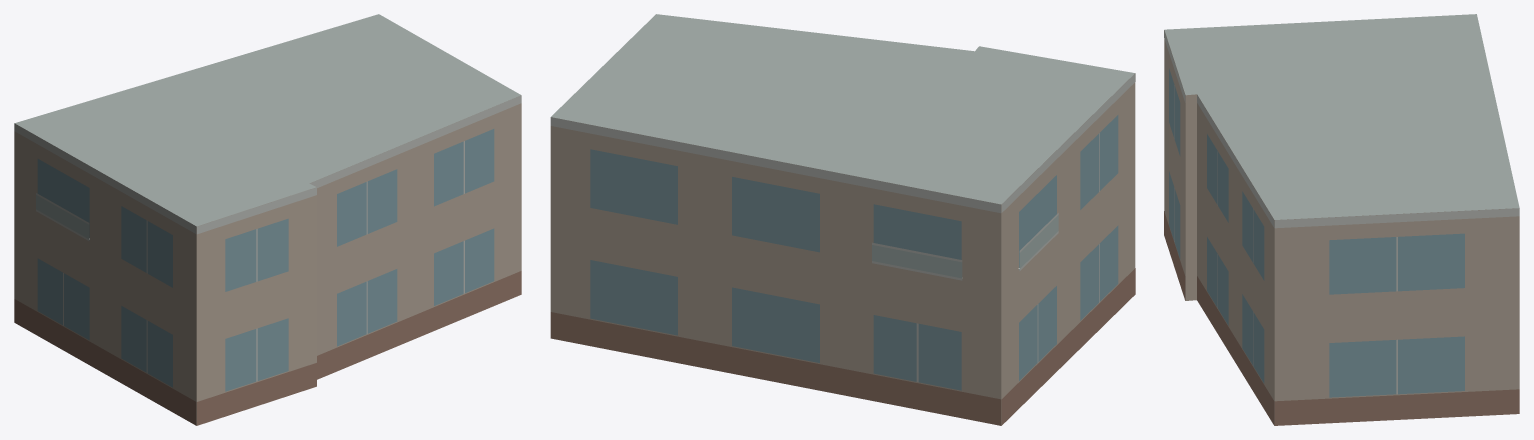
The model's file is survey-upis-32595007.glb.
3 renders of one model, left to right at view 1: azimuth 30°, elevation 25°; view 2: azimuth 150°, elevation 25°; view 3: azimuth 270°, elevation 25°, orthographic. The views are drawn at different scales.
Visible parts, largest first — view 1: survey-upis-32595007.tmp; view 2: survey-upis-32595007.tmp; view 3: survey-upis-32595007.tmp.
Boxes of the visible parts, bbox=[...] form: survey-upis-32595007.tmp: bbox=[14, 14, 521, 425]; survey-upis-32595007.tmp: bbox=[550, 14, 1135, 425]; survey-upis-32595007.tmp: bbox=[1164, 14, 1519, 425].
Bounding box in the file's own units: 13.11 × 6.1 × 9.56.
